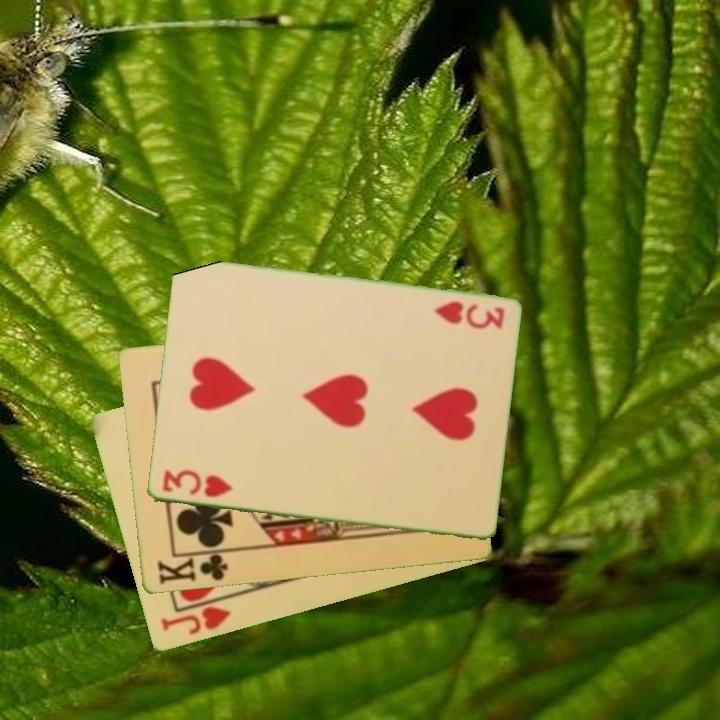3h: (158, 466, 235, 501), (430, 298, 507, 332)
Jh: (157, 593, 235, 639)
Kc: (153, 547, 233, 588)
